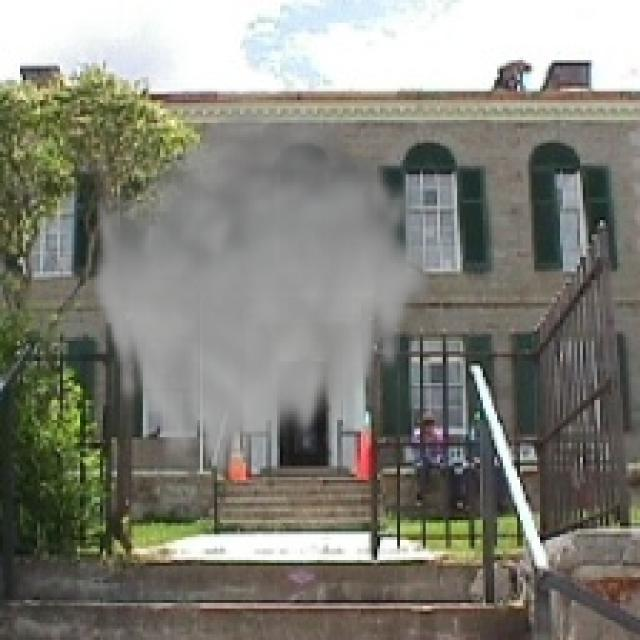Smoke: (89, 100, 438, 497)
